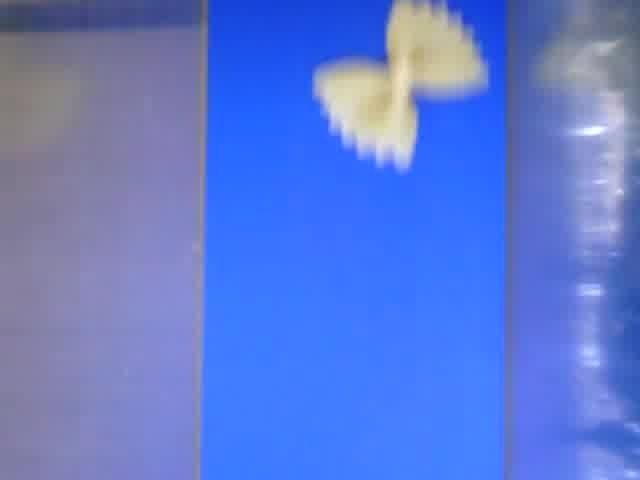farfalle: (314, 1, 491, 171)
